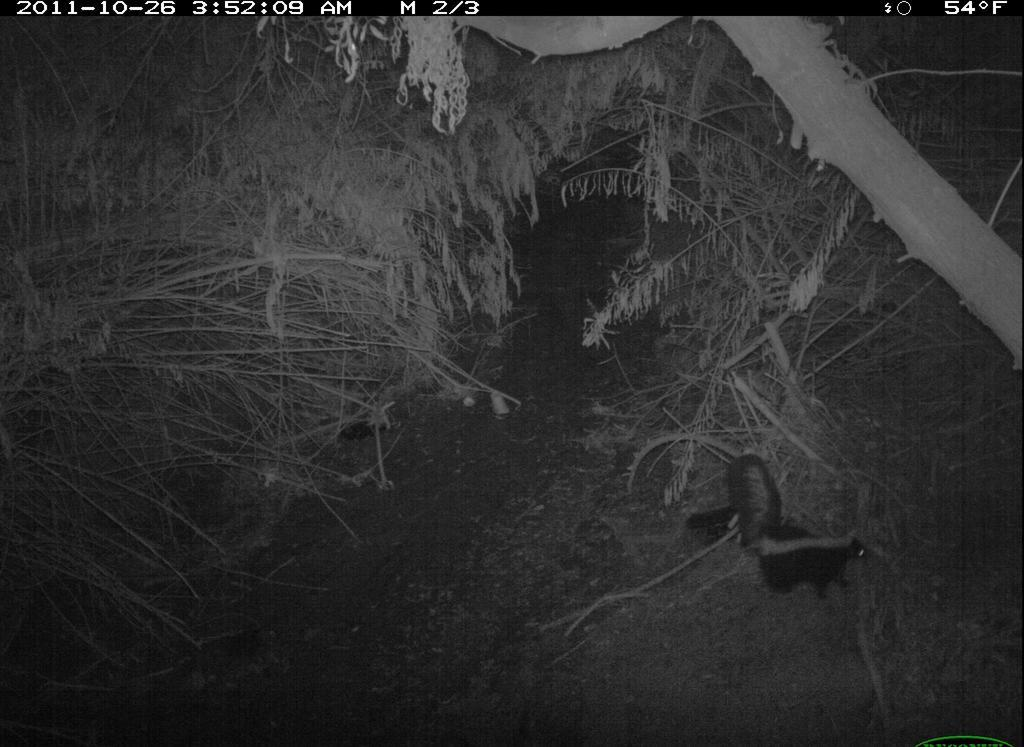skunk: (688, 449, 881, 614)
